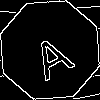A: (25, 25, 76, 82)
